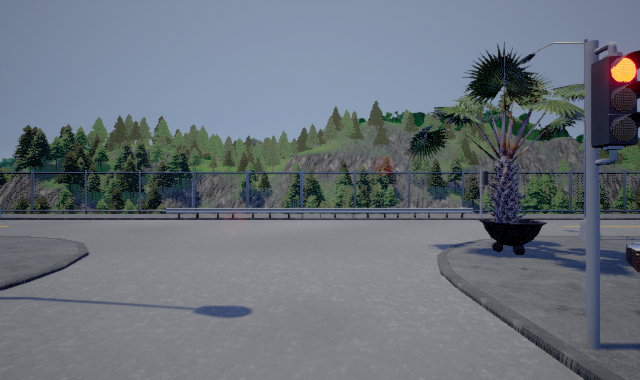traffic_light: (592, 49, 640, 148)
